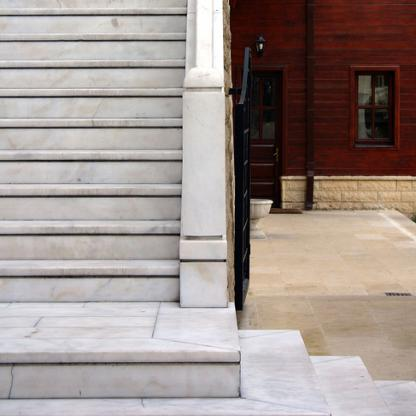stairs: (2, 101, 173, 323)
